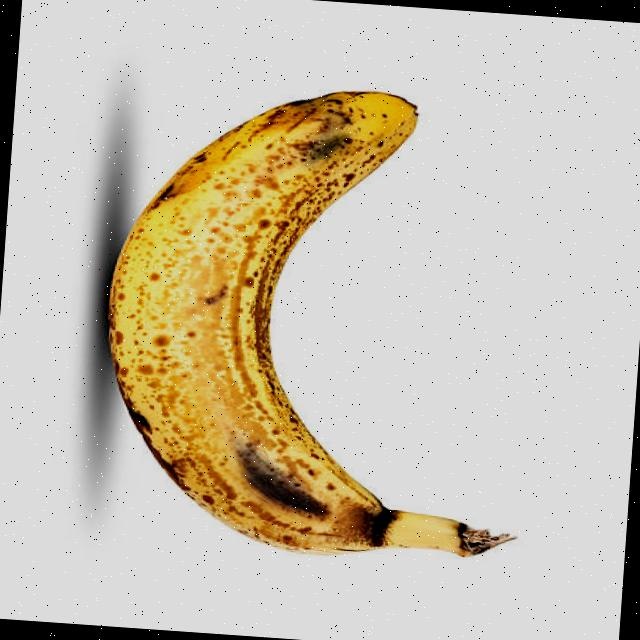overripe: (88, 66, 500, 572)
